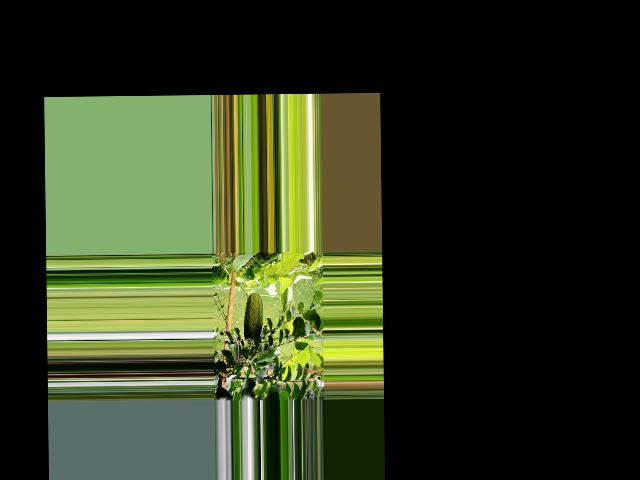cucumber: (242, 292, 263, 345)
